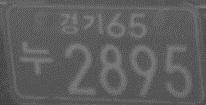2: (62, 42, 95, 94)
5: (164, 43, 194, 98), (128, 12, 147, 39)
6: (106, 12, 125, 40)
8: (98, 43, 127, 98)
9: (129, 44, 158, 97)
경기_O: (58, 11, 104, 36)
누: (18, 39, 53, 76)
